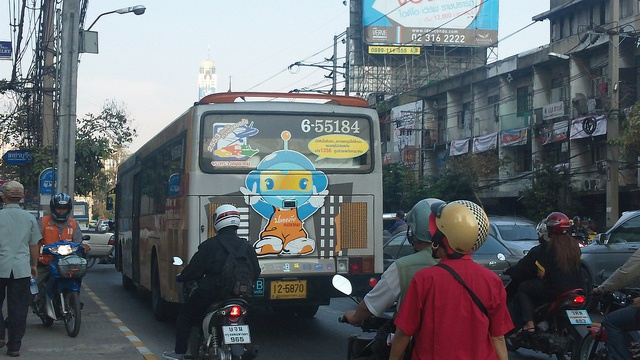non-vehicle: (496, 248, 592, 359), (170, 255, 260, 359), (28, 234, 89, 337), (574, 267, 639, 359), (329, 271, 393, 359)
